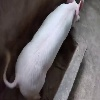heo: (12, 1, 85, 97)
